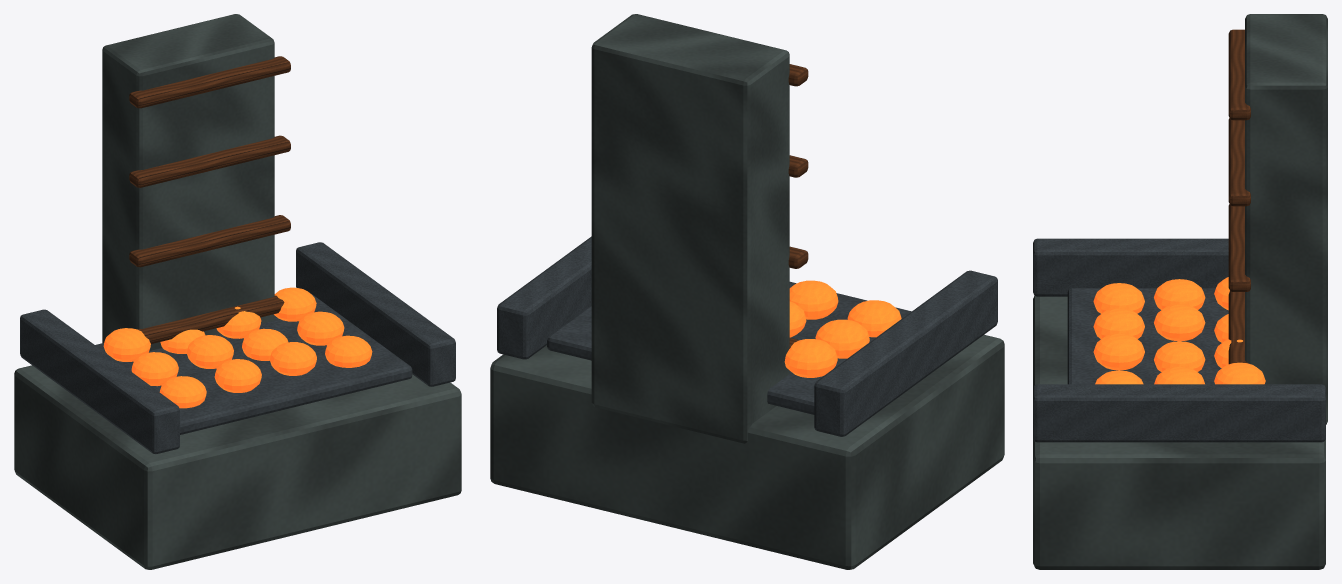
Rendered from forge_hearth.glb.
3 views of the same model, side by side, from view 1: azimuth 30°, elevation 25°; view 2: azimuth 150°, elevation 25°; view 3: azimuth 270°, elevation 25° (orthographic). The views are drawn at different scales.
Visible parts, largest first — view 1: forge_hearth_Stone, forge_hearth_Iron, forge_hearth_Ember, forge_hearth_Walnut; view 2: forge_hearth_Stone, forge_hearth_Iron, forge_hearth_Ember, forge_hearth_Walnut; view 3: forge_hearth_Stone, forge_hearth_Iron, forge_hearth_Ember, forge_hearth_Walnut.
Boxes of the visible parts, left/top/right/bottom form: forge_hearth_Stone: left=14, top=14, right=461, bottom=569; forge_hearth_Iron: left=20, top=242, right=455, bottom=454; forge_hearth_Ember: left=103, top=287, right=372, bottom=408; forge_hearth_Walnut: left=129, top=56, right=290, bottom=343; forge_hearth_Stone: left=490, top=14, right=1004, bottom=569; forge_hearth_Iron: left=497, top=236, right=997, bottom=436; forge_hearth_Ember: left=784, top=280, right=901, bottom=377; forge_hearth_Walnut: left=788, top=64, right=808, bottom=348; forge_hearth_Stone: left=1033, top=14, right=1327, bottom=569; forge_hearth_Iron: left=1033, top=238, right=1325, bottom=442; forge_hearth_Ember: left=1093, top=277, right=1265, bottom=384; forge_hearth_Walnut: left=1228, top=29, right=1250, bottom=364.
Bounding box in the file's own units: 2.3 × 2.82 × 1.71.
Materials: 4 (4 with a texture image).
